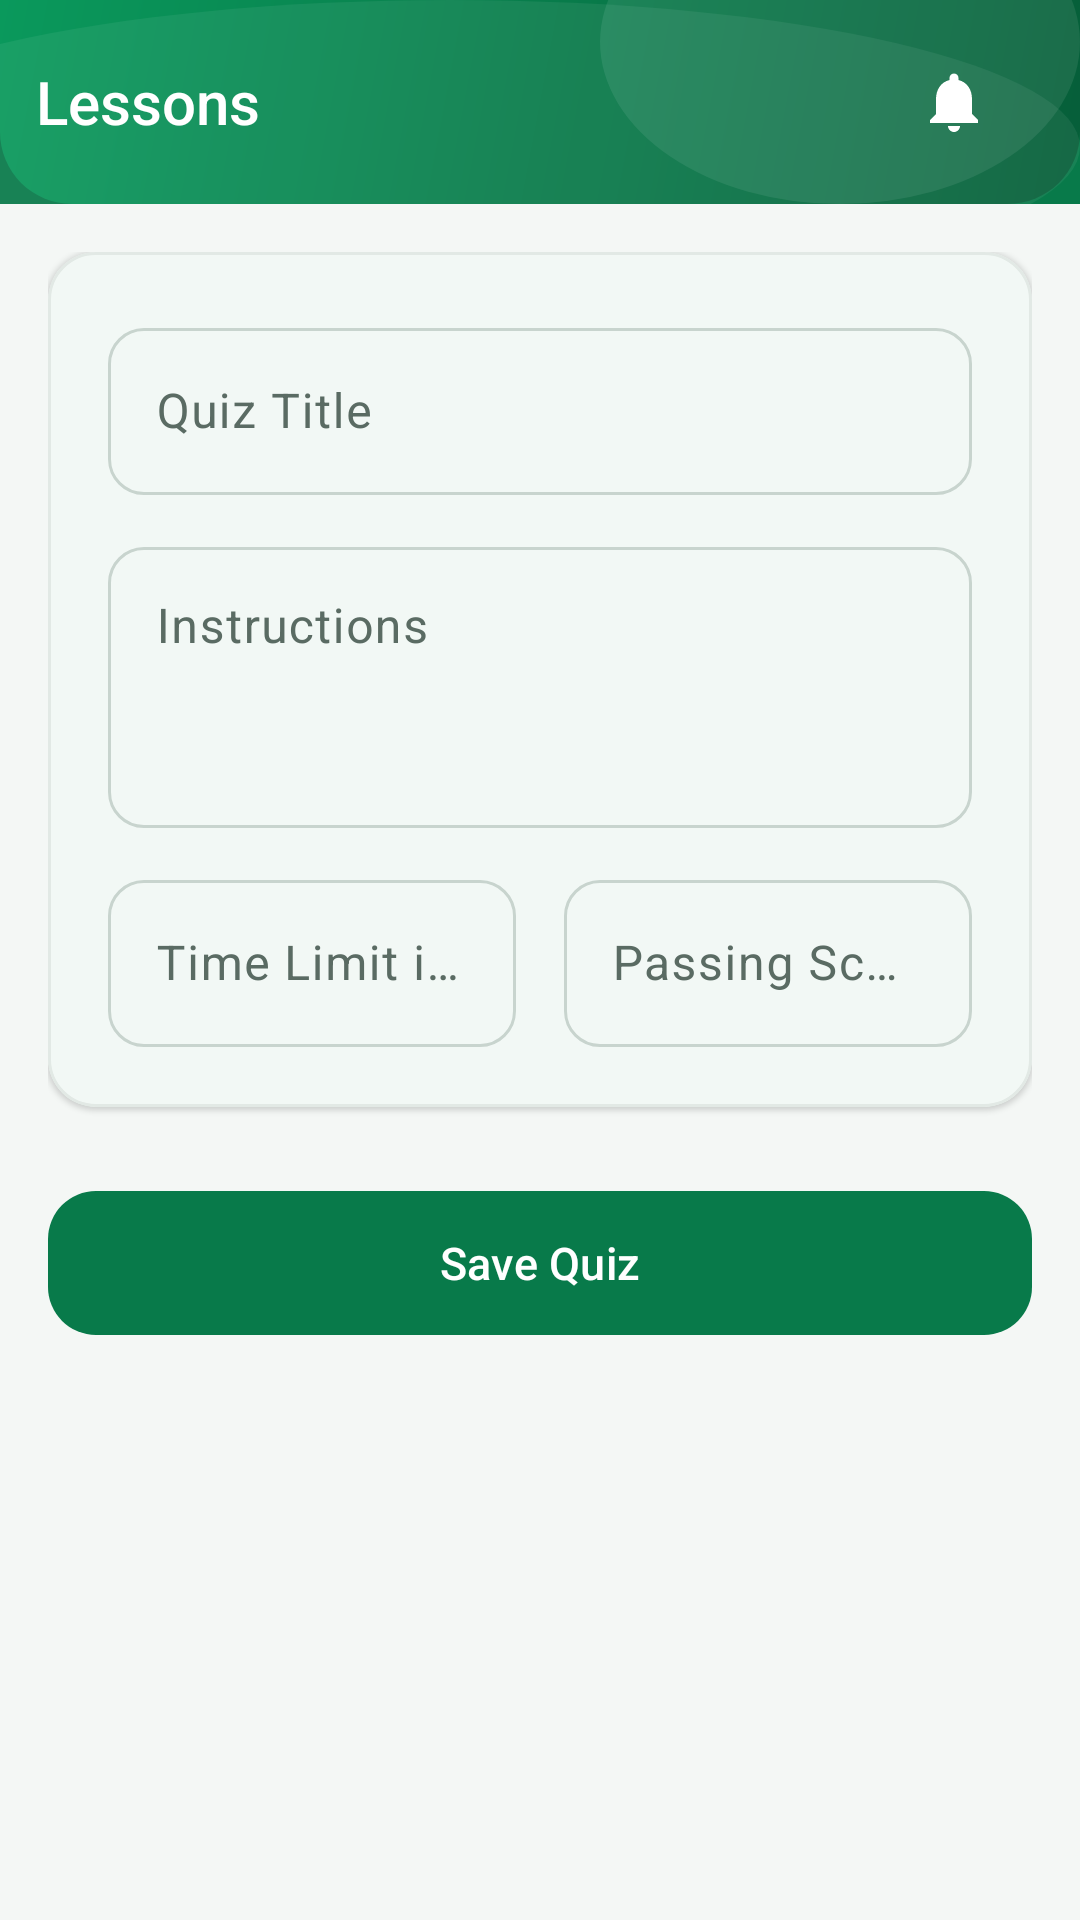

Where icons sit on this 1080*1920 app screen, as (x1, y1, x2, y2):
Notifications: (930, 73, 978, 132)
